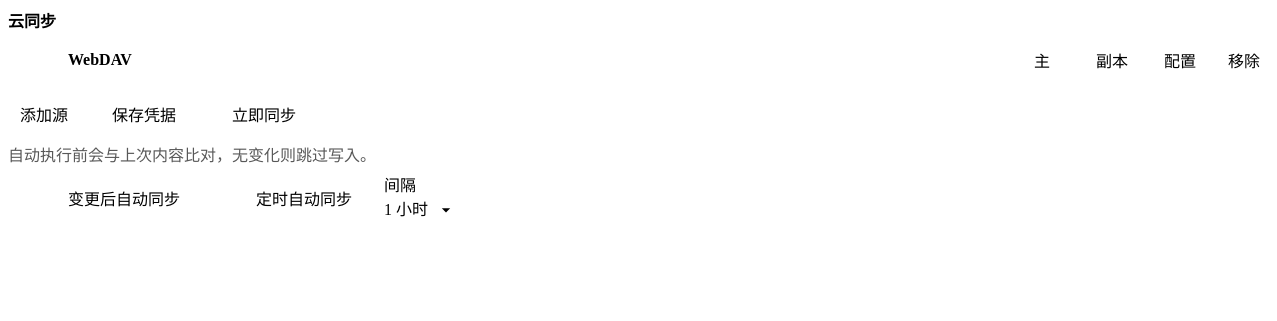
Scenario: CloudCard（多源） › ⑦取消采用：persistDownloaded 不调、基线不写，提示已保留冲突副本
The image size is (1277, 321).
Click the button with class "cloud-sync": (264, 114) top-left (208, 94), bottom-right (320, 134)
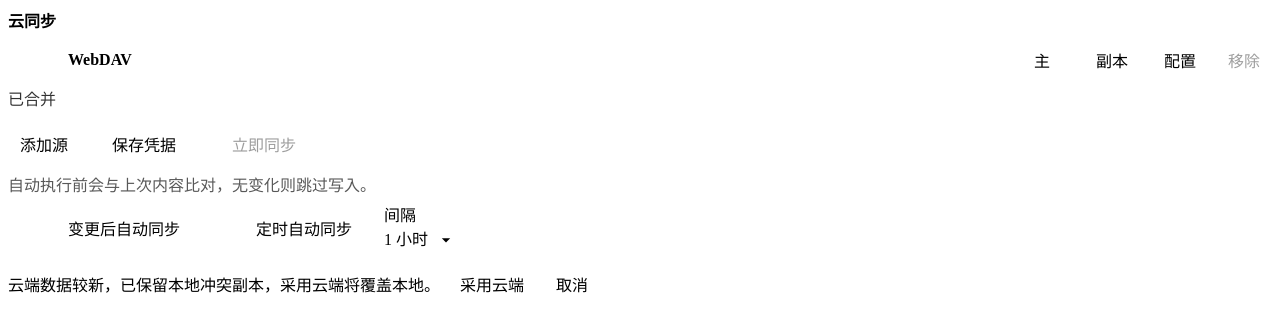
Click the button "取消": (572, 284) top-left (544, 264), bottom-right (600, 304)
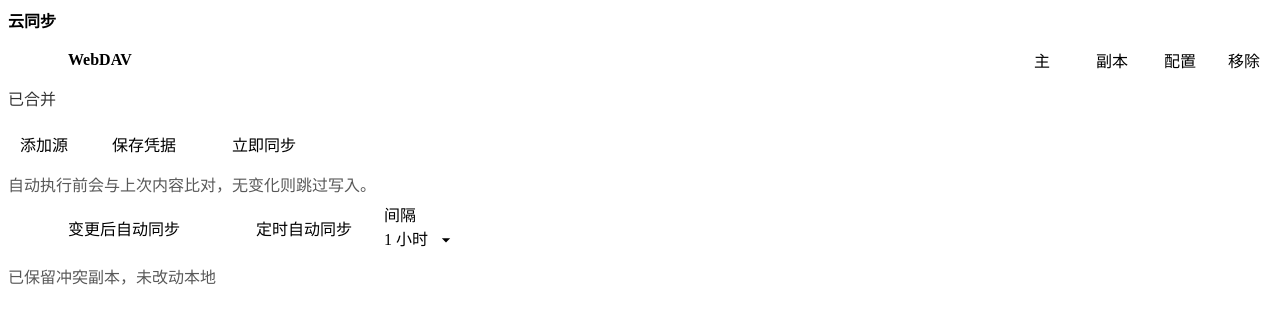
expect the text "已保留冲突副本，未改动本地" is shown: met, box top-left (8, 269), bottom-right (216, 286)
